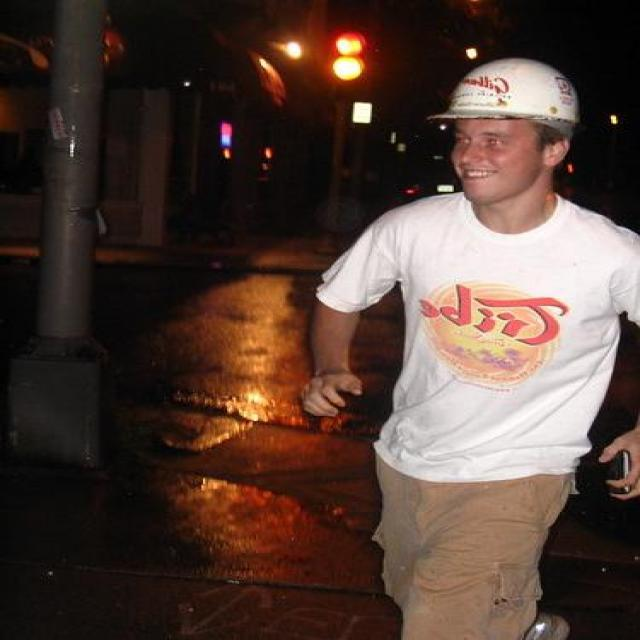safety_helmet: (417, 51, 599, 147)
